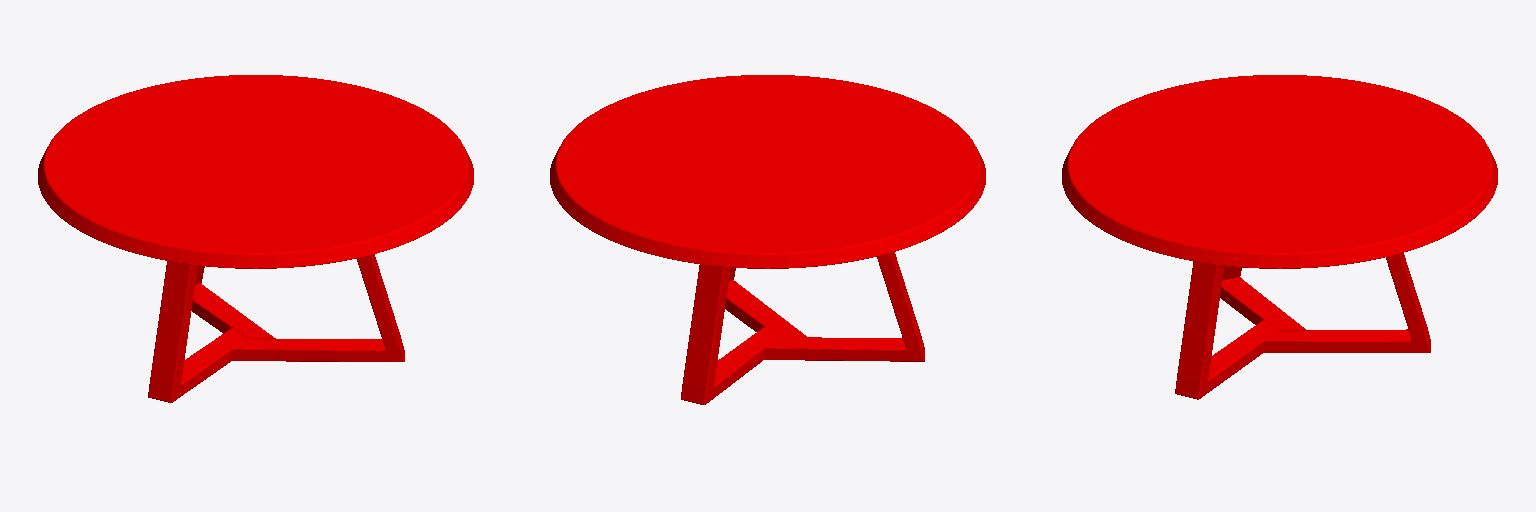
Rendered from table.obj.
3 renders of one model, left to right at view 1: azimuth 30°, elevation 25°; view 2: azimuth 150°, elevation 25°; view 3: azimuth 270°, elevation 25°, orthographic.
Parts seen in each view (by area): view 1: diningtable; view 2: diningtable; view 3: diningtable.
Part boxes in pixels (left/top/right/bottom): diningtable: left=38, top=75, right=473, bottom=402; diningtable: left=550, top=75, right=985, bottom=404; diningtable: left=1062, top=75, right=1497, bottom=399.
Bounding box in the file's own units: 155 × 71.91 × 155.